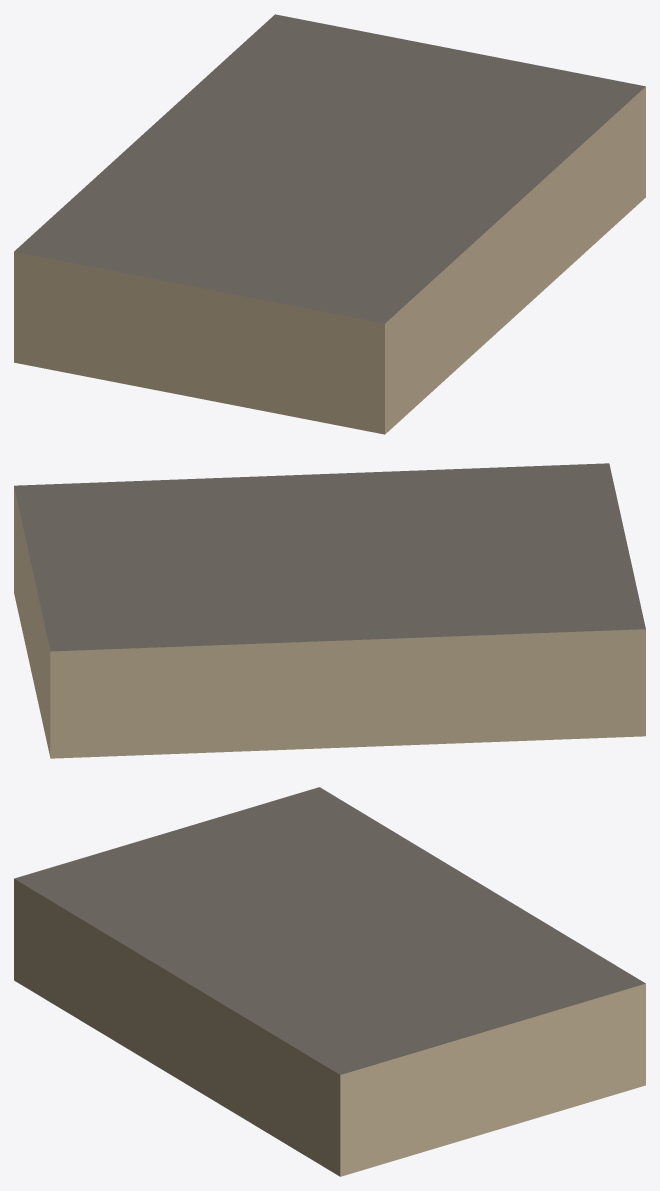
3 views of the same model, one above another, from view 1: azimuth 30°, elevation 25°; view 2: azimuth 150°, elevation 25°; view 3: azimuth 270°, elevation 25° (orthographic). The views are drawn at different scales.
Parts seen in each view (by area): view 1: HP-w1233759502; view 2: HP-w1233759502; view 3: HP-w1233759502.
Part boxes in pixels (x1=…): HP-w1233759502: x1=14, y1=14, x2=645, y2=434; HP-w1233759502: x1=14, y1=463, x2=645, y2=758; HP-w1233759502: x1=14, y1=787, x2=645, y2=1176.
Bounding box in the file's own units: 80.06 × 13.2 × 74.24.
